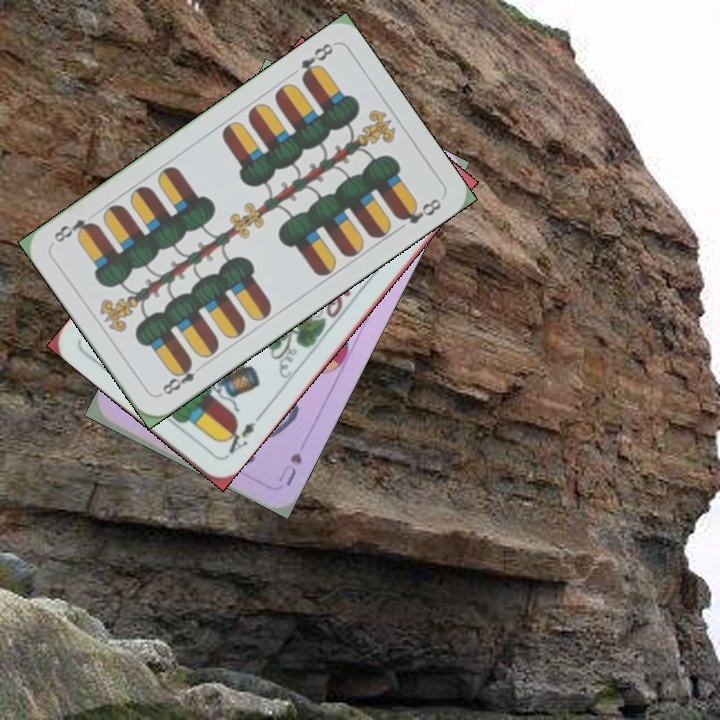E8: (155, 356, 198, 399), (297, 39, 336, 84)
EA: (218, 417, 258, 460)
SU: (274, 449, 305, 489)
